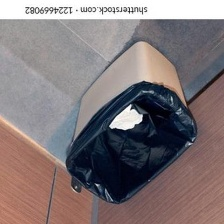tissue: (105, 102, 145, 132)
